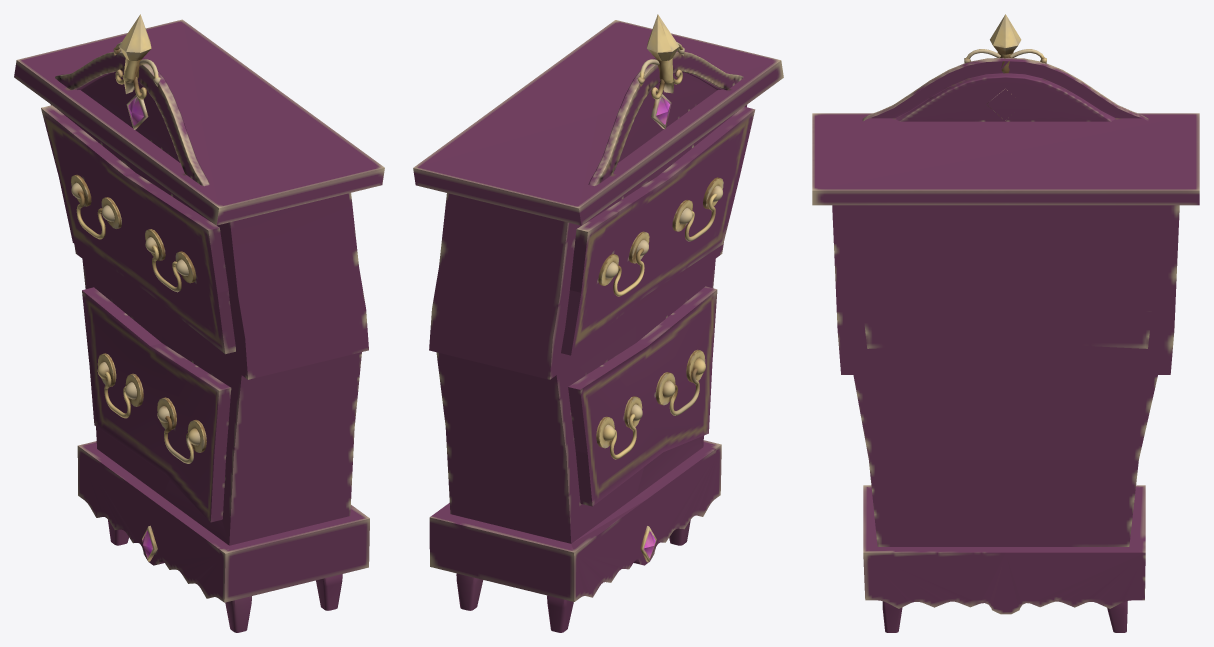
File: chest 1.fbx
3 renders of one model, left to right at view 1: azimuth 30°, elevation 25°; view 2: azimuth 150°, elevation 25°; view 3: azimuth 270°, elevation 25°, orthographic. The views are drawn at different scales.
Parts seen in each view (by area): view 1: chest2, chestdrawer1, chestdrawer; view 2: chest2, chestdrawer1, chestdrawer; view 3: chest2, chestdrawer1.
Part boxes in pixels (x1,y1,x2,y2): chest2: (14,14,384,632); chestdrawer1: (41,105,235,354); chestdrawer: (82,287,231,522); chest2: (413,14,783,632); chestdrawer1: (561,106,755,355); chestdrawer: (568,286,717,506); chest2: (812,14,1199,632); chestdrawer1: (863,311,1151,348).
Bounding box in the file's own units: 99.97 × 308 × 195.
1 material, 1 textured.
